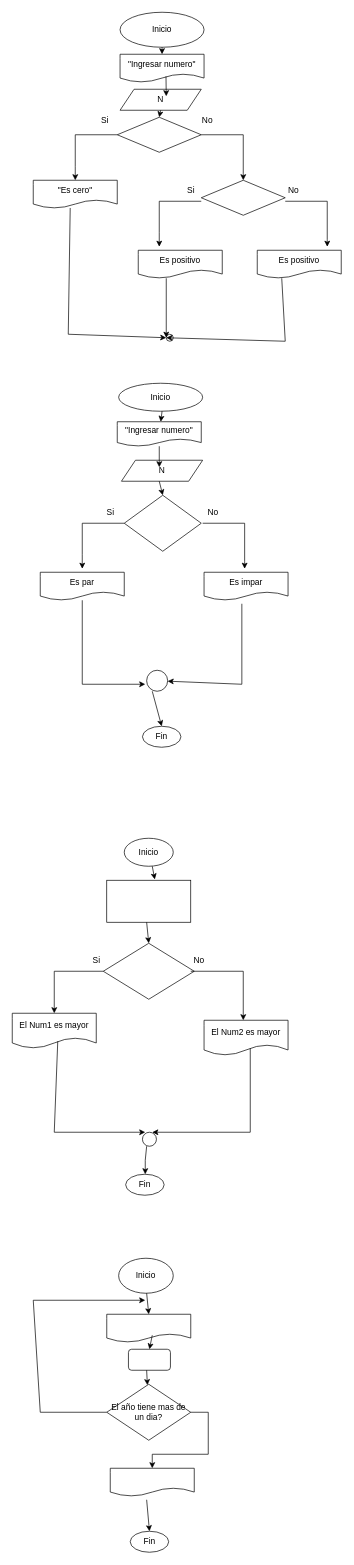
The diagram is 354 pixels wide and 1565 high, and some of its shapes have lost their labels. Here are the shapes that lost their labels. From the top down, the box of each, then its label:
(117, 117, 201, 152): N!=0
(201, 180, 285, 215): N>0
(124, 495, 201, 551): num= 2, 4, 6, 8, o 0
(106, 880, 191, 922): Num1, Num2
(103, 943, 194, 999): Num1>Num2
(106, 1314, 191, 1342): "Insertar Año"
(128, 1349, 170, 1370): Año
(110, 1468, 194, 1496): "Año bisiesto"
